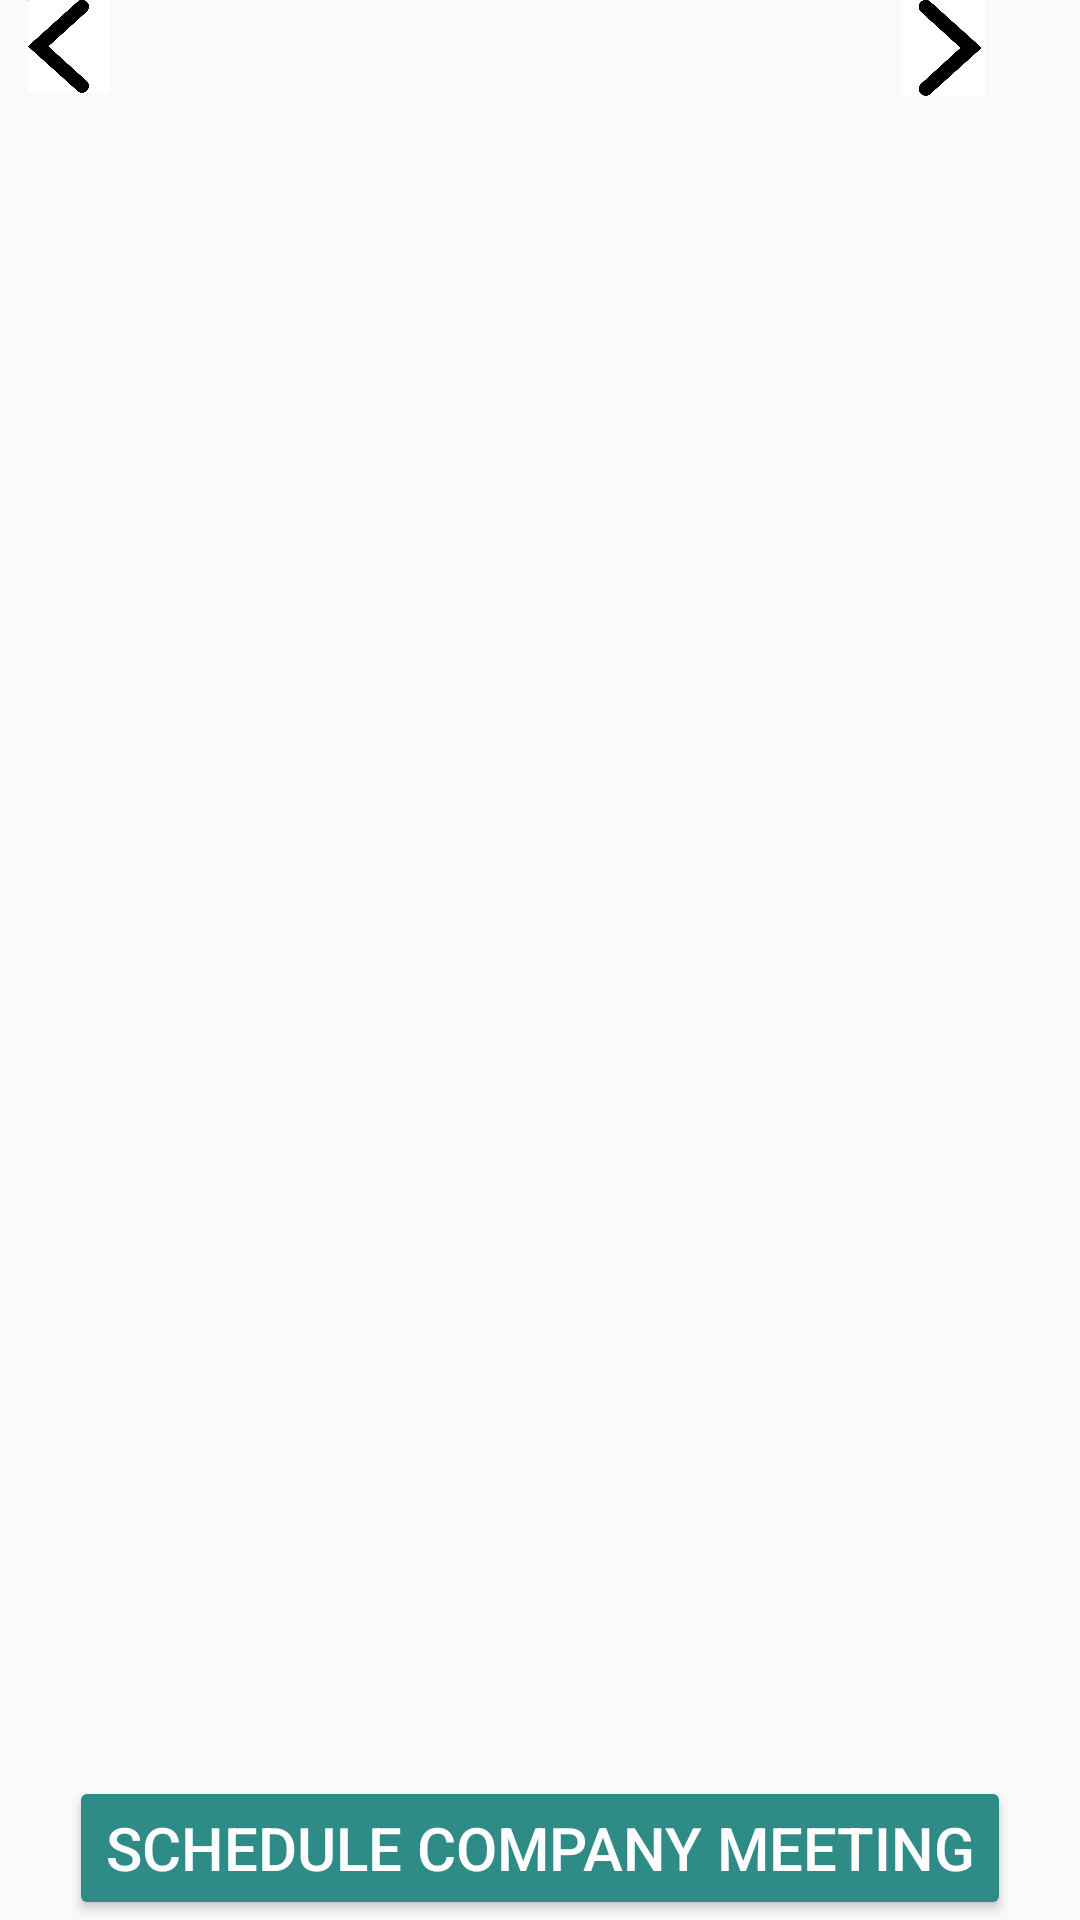

Icons on this 1080 x 1920 Android screen, each with the point to tap as (x=x, y=y):
nex: (x=950, y=48)
